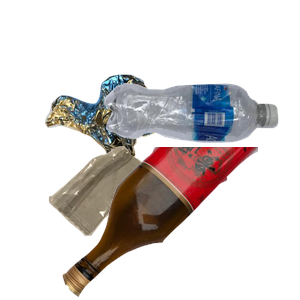glass: (60, 147, 300, 300)
metal: (42, 72, 239, 229)
plastic: (102, 81, 300, 216)
trash: (46, 144, 188, 300)
